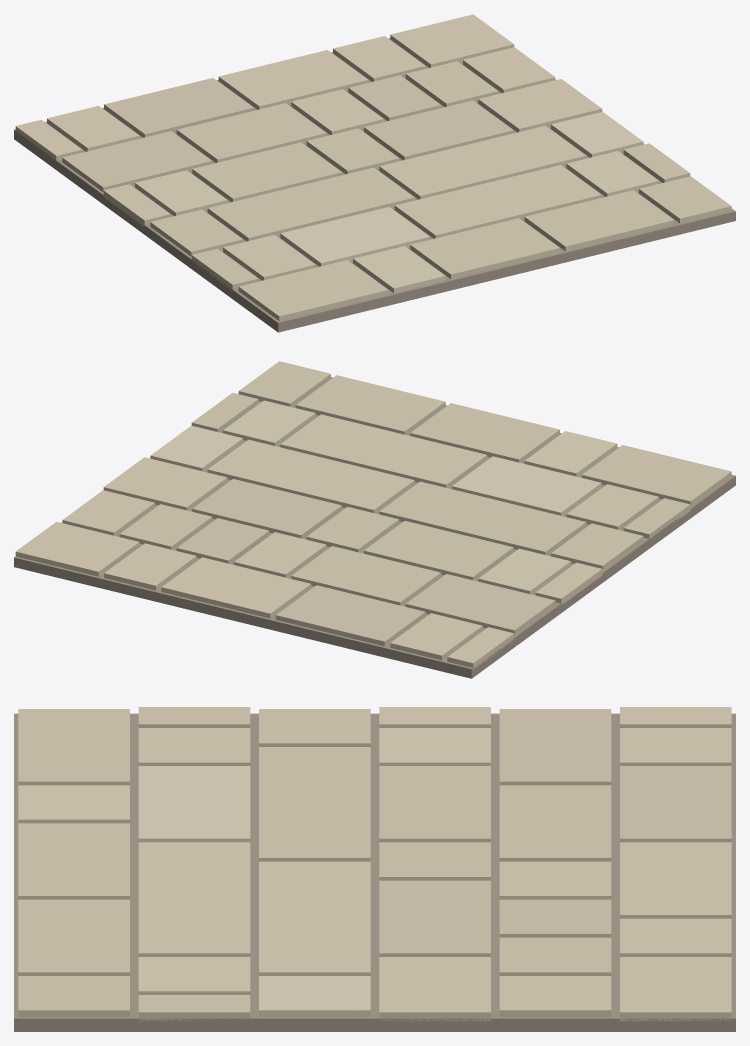
Rendered from jp_zen_pavement_sandstone_01.fbx.
3 views of the same model, one above another, from view 1: azimuth 30°, elevation 25°; view 2: azimuth 150°, elevation 25°; view 3: azimuth 270°, elevation 25° (orthographic). The views are drawn at different scales.
Parts seen in each view (by area): view 1: jp_zen_pavement_sandstone_01; view 2: jp_zen_pavement_sandstone_01; view 3: jp_zen_pavement_sandstone_01.
Boxes of the visible parts, left/top/right/bottom form: jp_zen_pavement_sandstone_01: left=14, top=14, right=735, bottom=332; jp_zen_pavement_sandstone_01: left=14, top=361, right=735, bottom=678; jp_zen_pavement_sandstone_01: left=14, top=707, right=735, bottom=1031.
Bounding box in the file's own units: 100 × 3 × 100.
